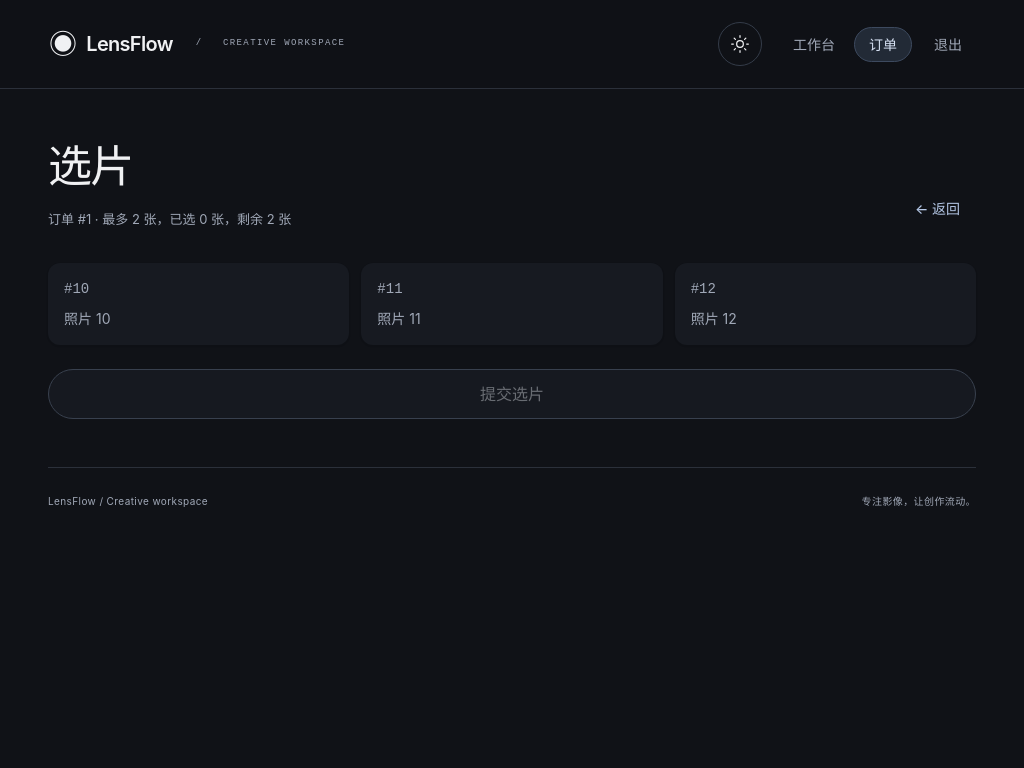
SelectionPage › keeps local choice on a conflict and offers explicit server reload
Click the text "照片 10".
click(87, 319)  # box [64,310,110,327]
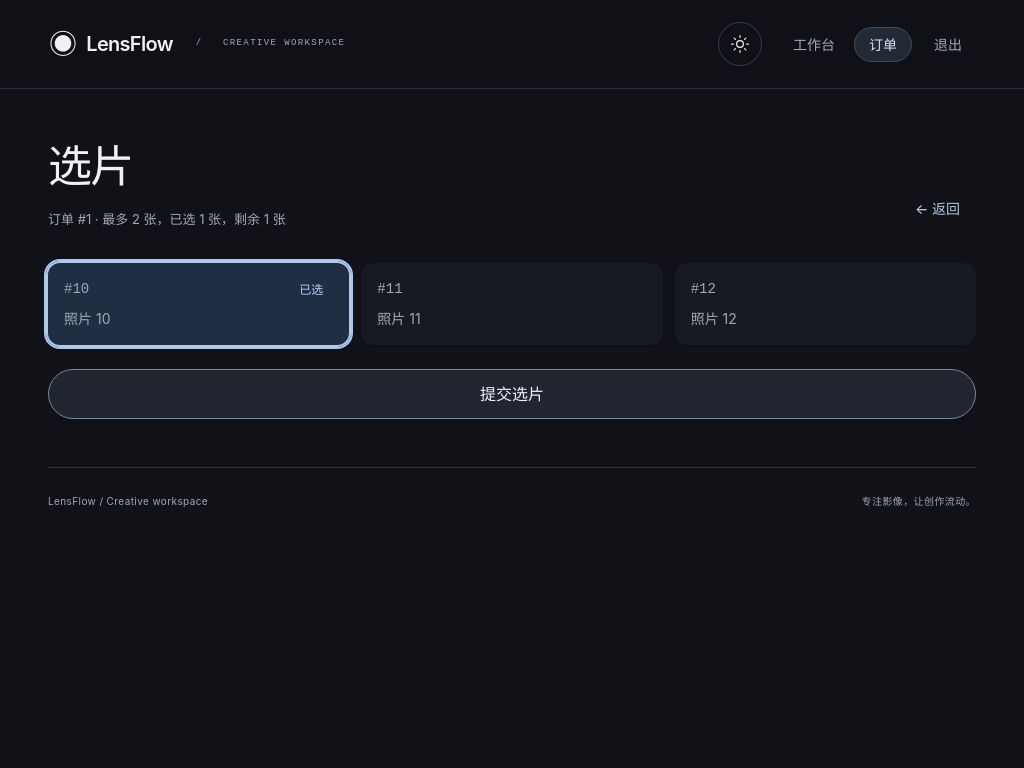
Click the button "提交选片".
click(512, 394)  # box [48,369,976,419]
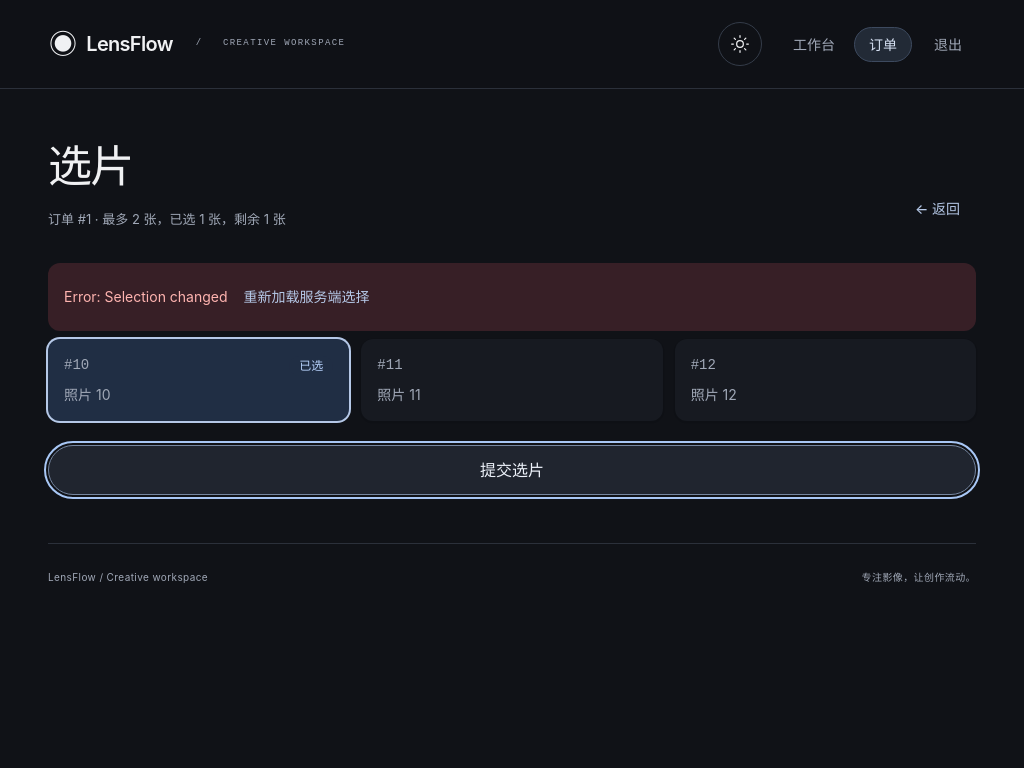
Expected: the message shows "Selection changed", [64,288,228,305]
Click the button "重新加载服务端选择".
click(307, 297)  # box [228,275,386,319]
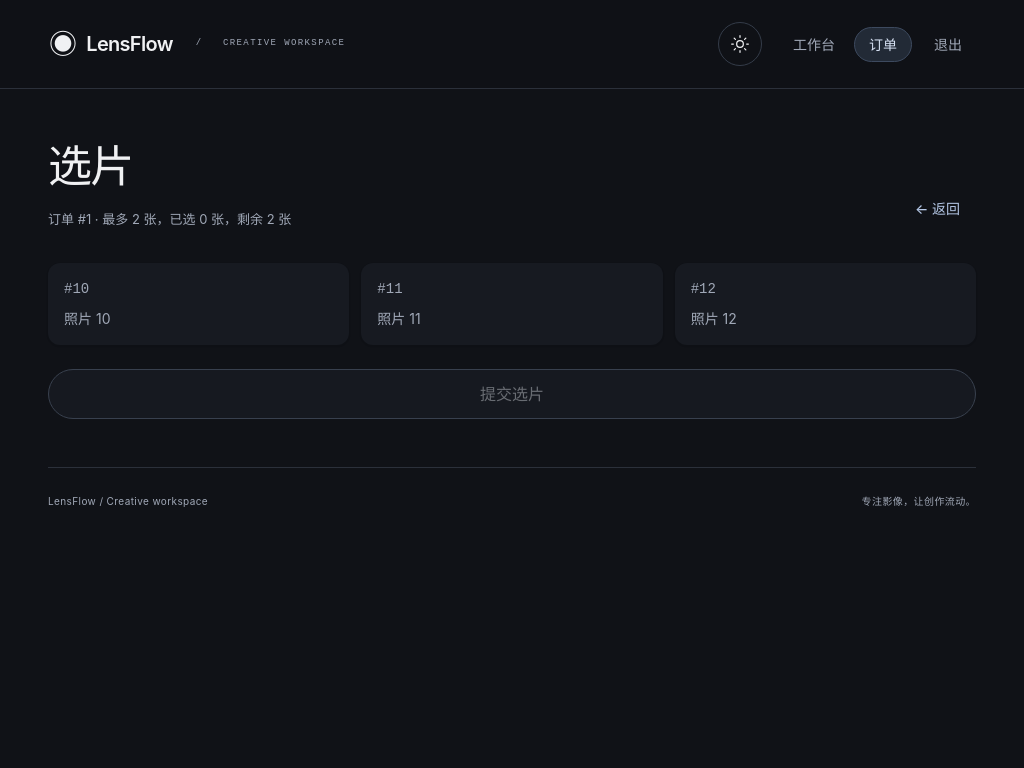
Expected: the message "Error: Selection changed 重新加载服务端选择" is gone
